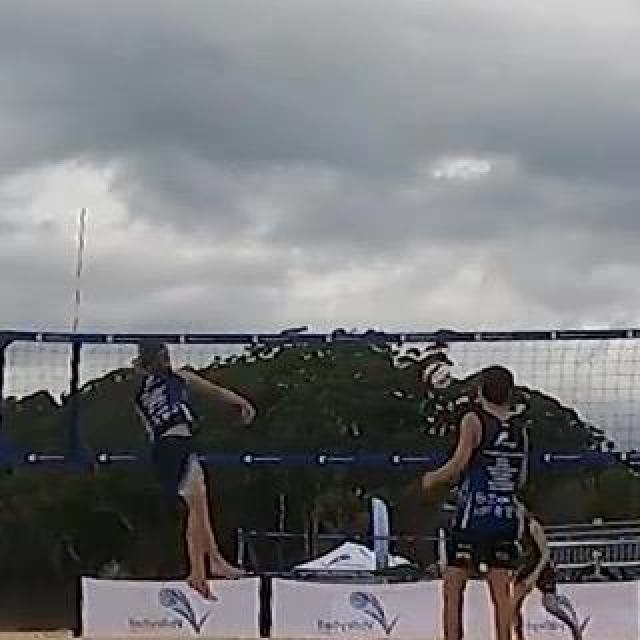volleyball: (422, 361, 452, 389)
